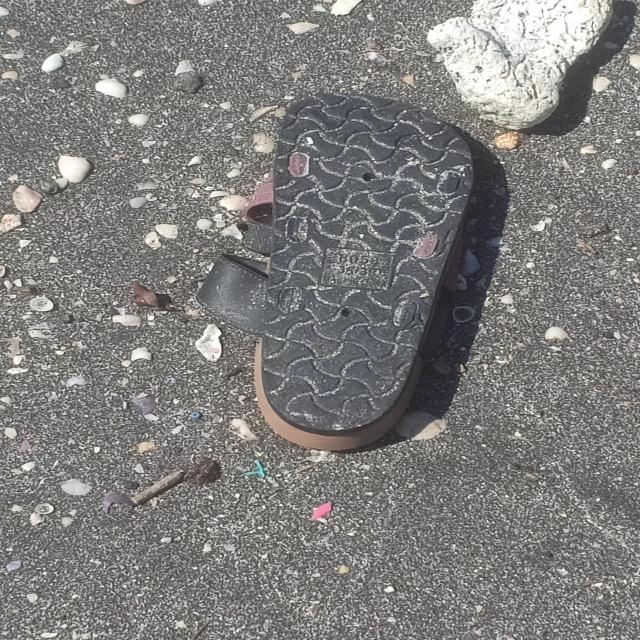rubber_waste: (195, 93, 478, 456)
